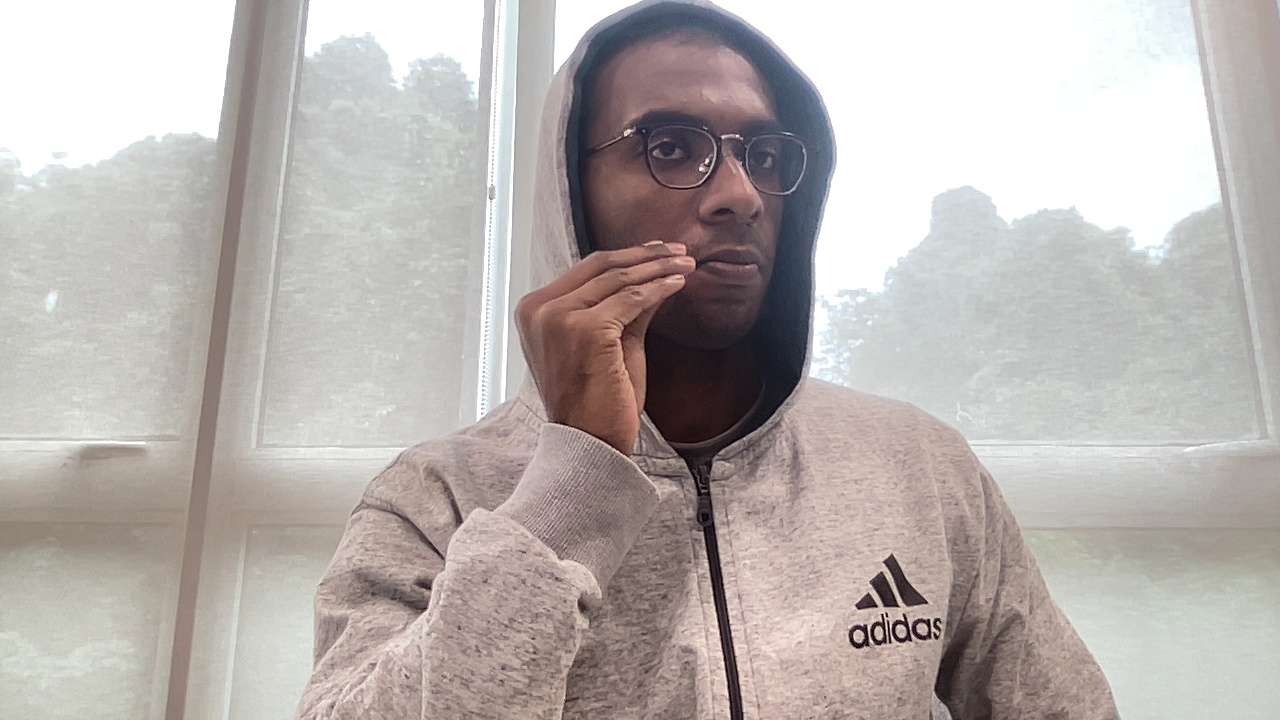eat: (506, 232, 703, 418)
